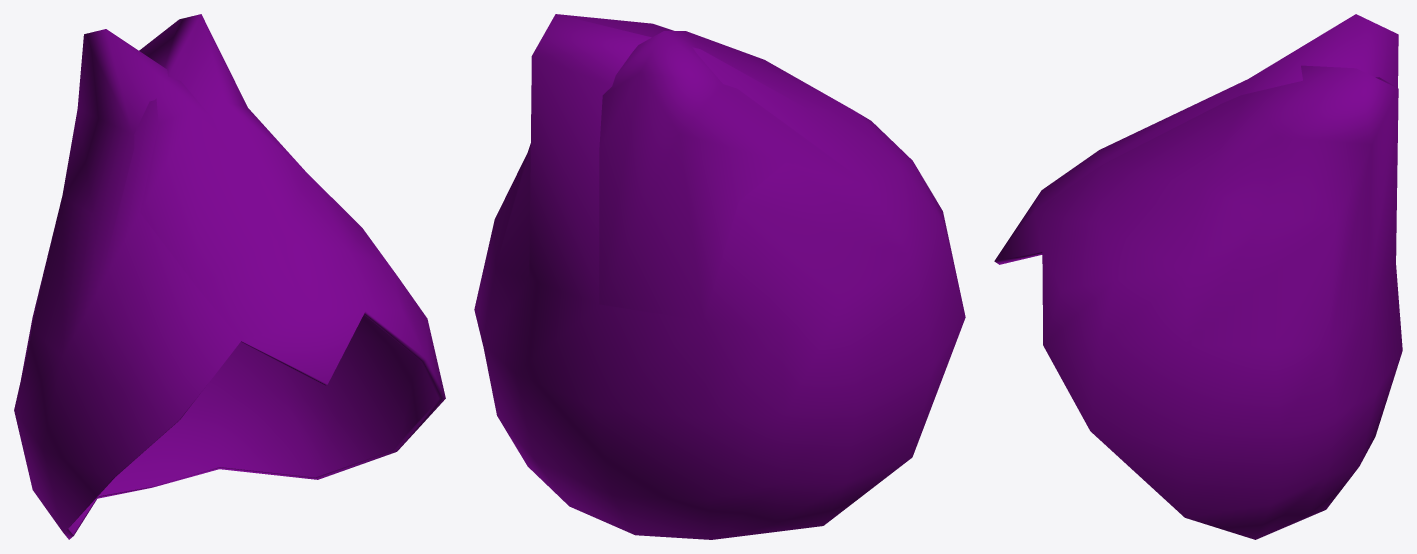
File: hat_goblin.fbx
3 renders of one model, left to right at view 1: azimuth 30°, elevation 25°; view 2: azimuth 150°, elevation 25°; view 3: azimuth 270°, elevation 25°, orthographic. The views are drawn at different scales.
Visible parts, largest first — view 1: Hat_goblin1, Hat_goblin2; view 2: Hat_goblin1, Hat_goblin2; view 3: Hat_goblin1, Hat_goblin2.
Boxes of the visible parts, x1,y1,x2,y2 form: Hat_goblin1: [14, 14, 445, 539]; Hat_goblin2: [62, 29, 307, 340]; Hat_goblin1: [474, 14, 965, 539]; Hat_goblin2: [599, 31, 869, 320]; Hat_goblin1: [994, 65, 1402, 539]; Hat_goblin2: [1034, 14, 1398, 211].
Bounding box in the file's own units: 44.6 × 52.25 × 42.52.
